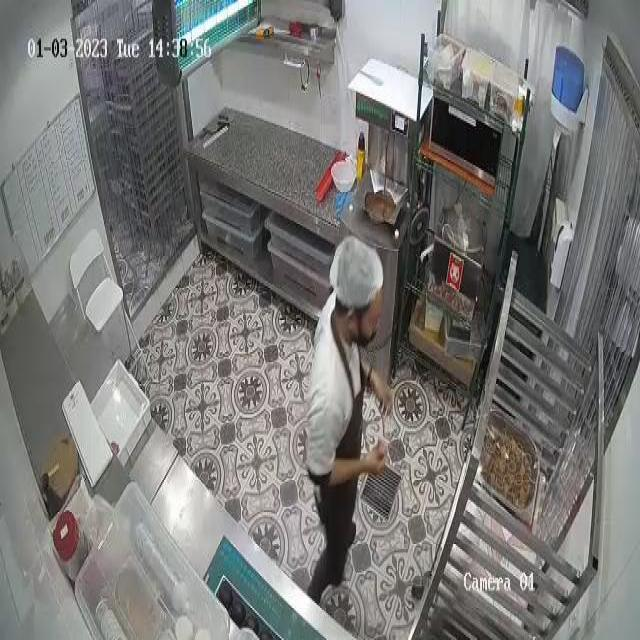hairnet: (333, 236, 381, 303)
